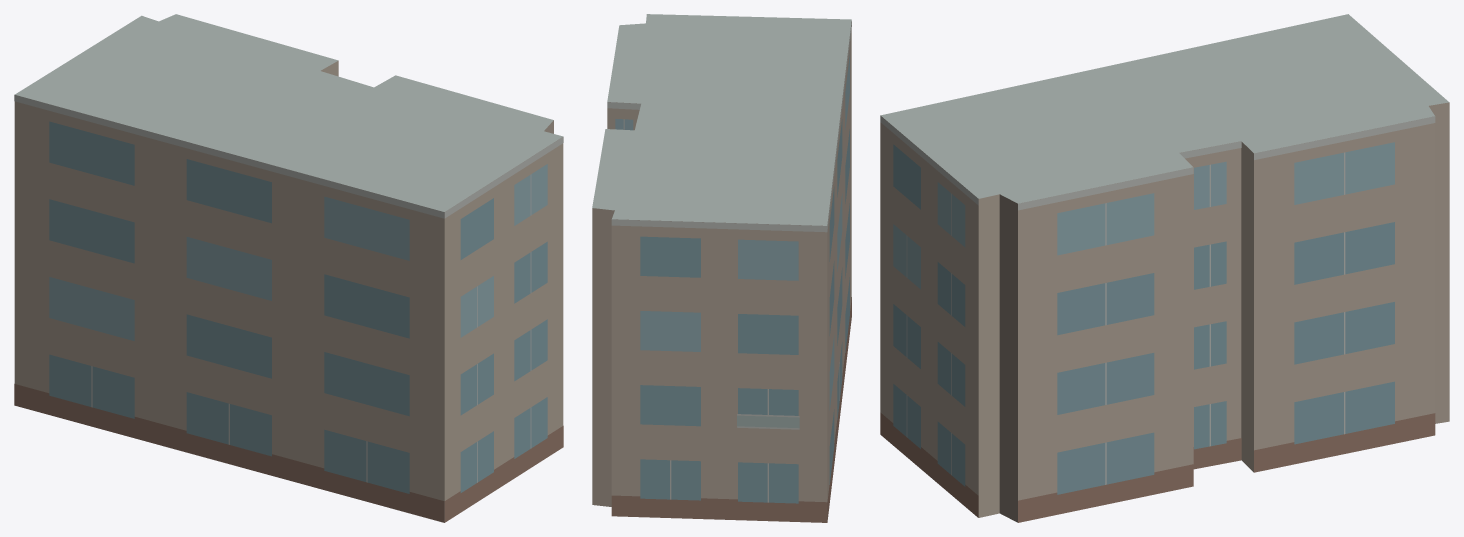
The model's file is survey-upis-32742242.glb.
3 renders of one model, left to right at view 1: azimuth 30°, elevation 25°; view 2: azimuth 150°, elevation 25°; view 3: azimuth 270°, elevation 25°, orthographic. The views are drawn at different scales.
Visible parts, largest first — view 1: survey-upis-32742242.tmp; view 2: survey-upis-32742242.tmp; view 3: survey-upis-32742242.tmp.
Boxes of the visible parts, x1,y1,x2,y2 form: survey-upis-32742242.tmp: [14, 14, 563, 522]; survey-upis-32742242.tmp: [592, 14, 851, 522]; survey-upis-32742242.tmp: [880, 14, 1449, 522].
Bounding box in the file's own units: 14.67 × 11.5 × 18.6.
